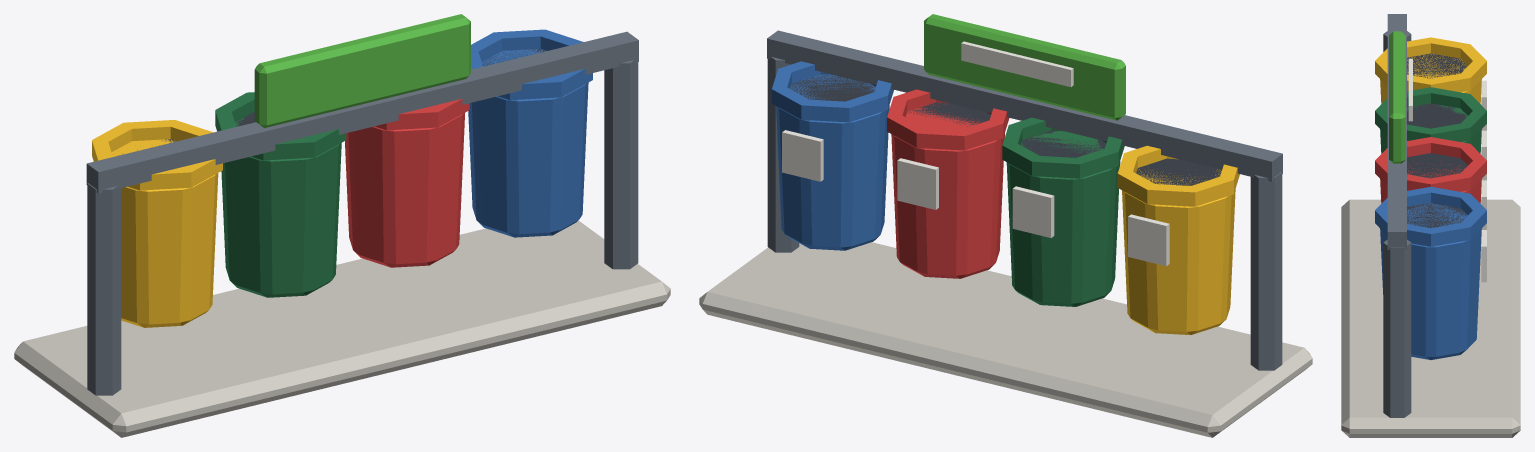
File: lixeira_seletiva.glb
3 views of the same model, side by side, from view 1: azimuth 30°, elevation 25°; view 2: azimuth 150°, elevation 25°; view 3: azimuth 270°, elevation 25° (orthographic). The views are drawn at different scales.
Visible parts, largest first — view 1: corpo; view 2: corpo; view 3: corpo.
Boxes of the visible parts, x1,y1,x2,y2 form: corpo: [14, 14, 670, 437]; corpo: [699, 14, 1312, 437]; corpo: [1341, 14, 1520, 437].
Bounding box in the file's own units: 0.95 × 0.505 × 0.32.
